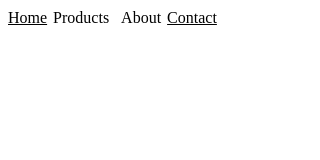
it: Nav › closes again when the button is pressed a second time
The width and height of the screenshot is (320, 160).
Click the button "Products": (81, 18) [47,8,115,28]
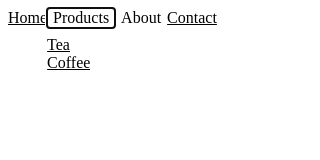
Now the button "Products" is expanded
Click the button "Products": (81, 18) [47,8,115,28]
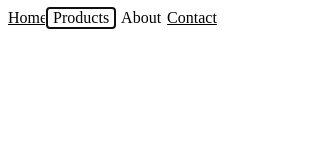
Now the link "Tea" is gone
